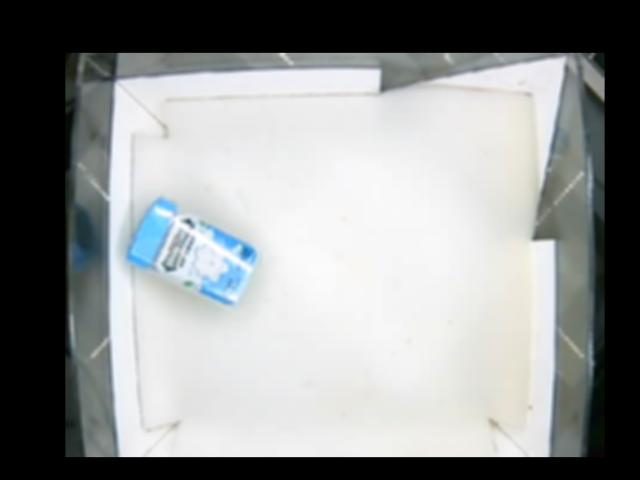Bottle: (126, 197, 260, 308)
